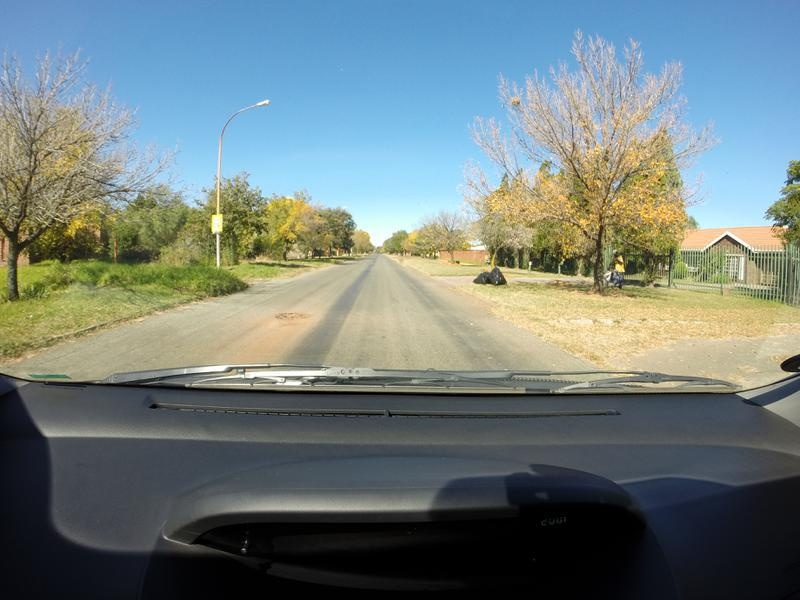pothole: (272, 312, 307, 319)
